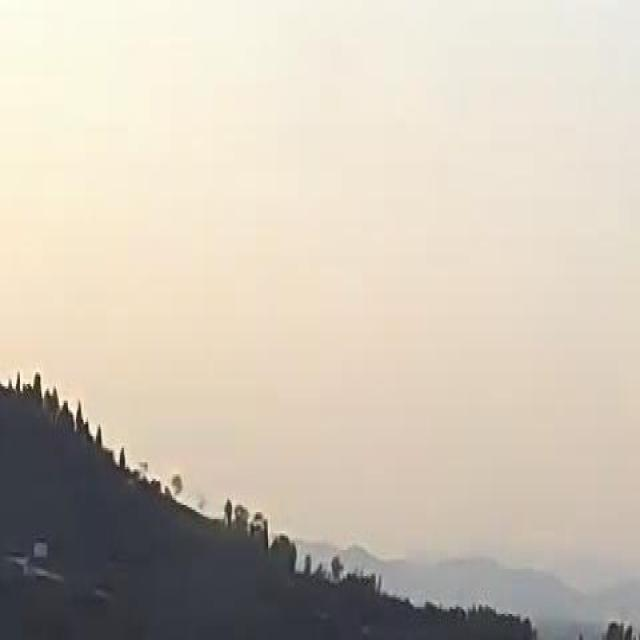other: (6, 214, 189, 506)
